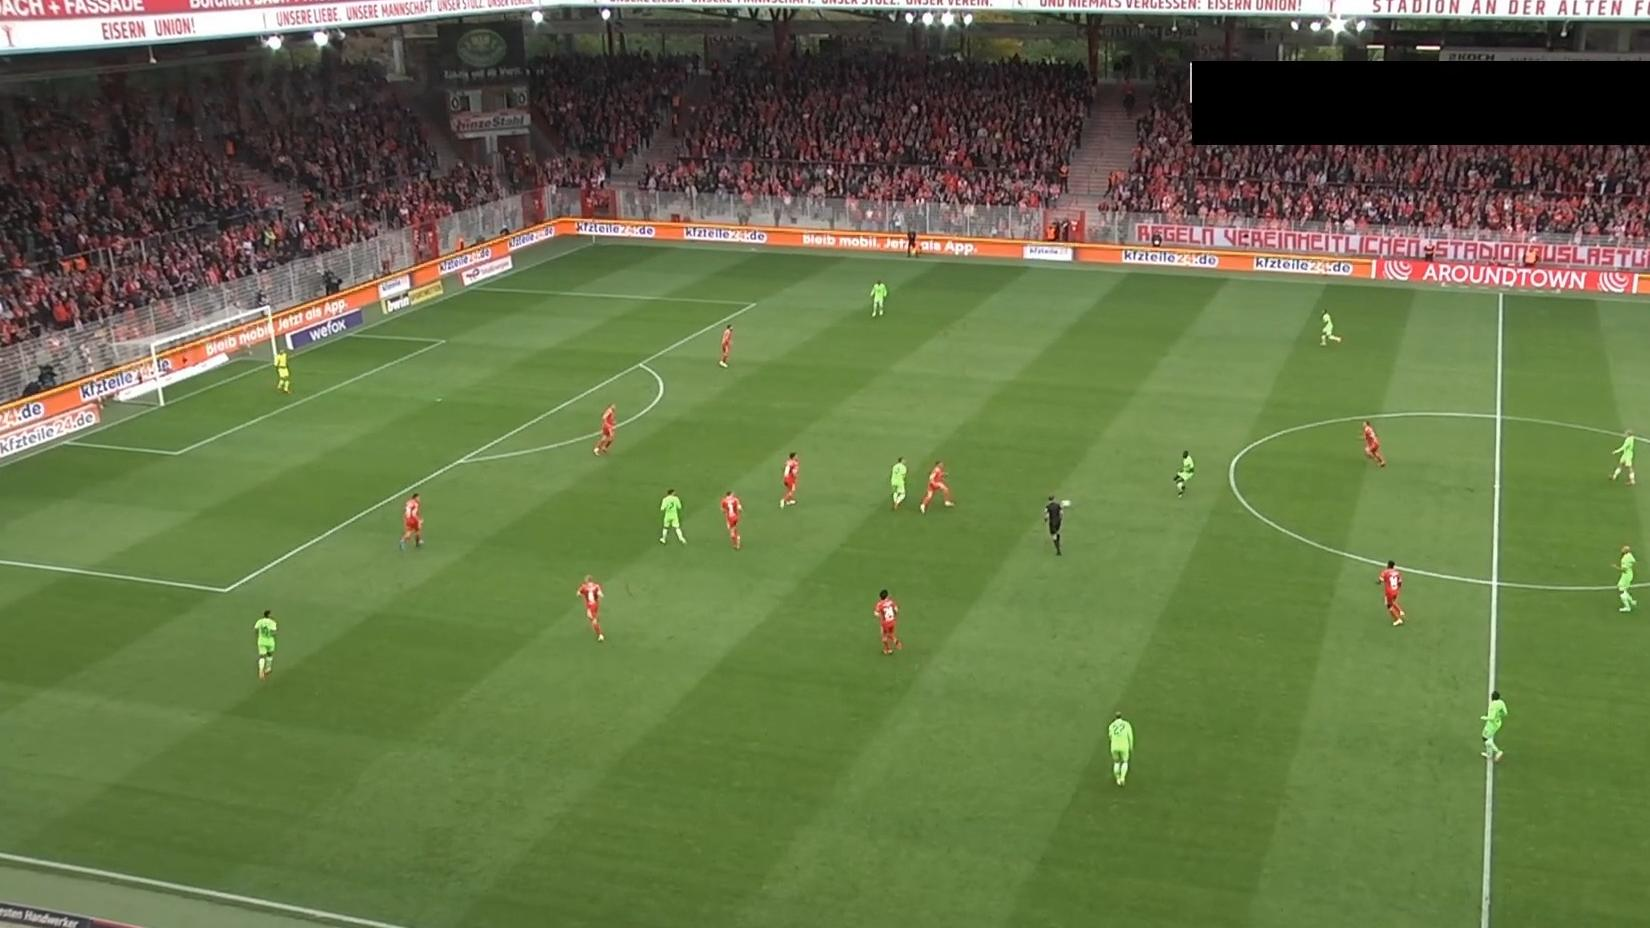ball: (1060, 497, 1073, 509)
